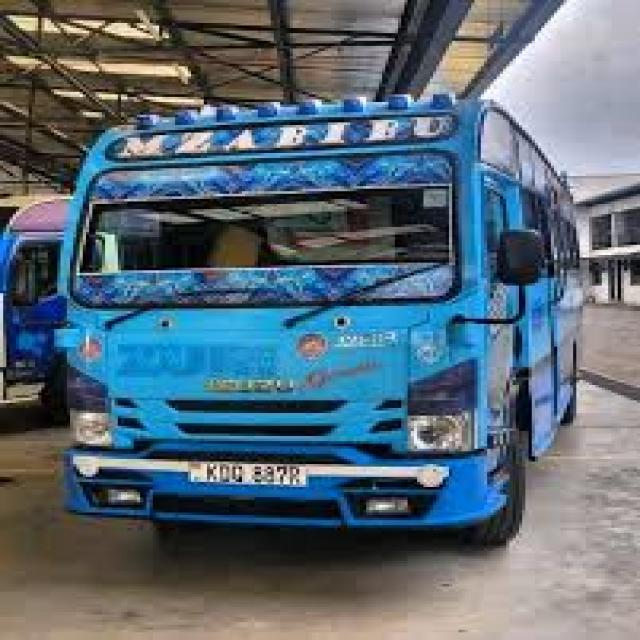bus: (4, 34, 618, 569)
